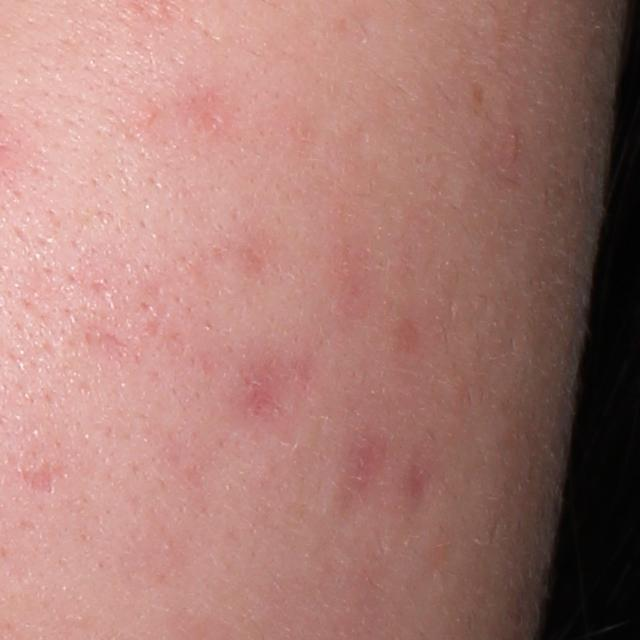atrophic_scar: (326, 420, 390, 520), (25, 461, 57, 496)
